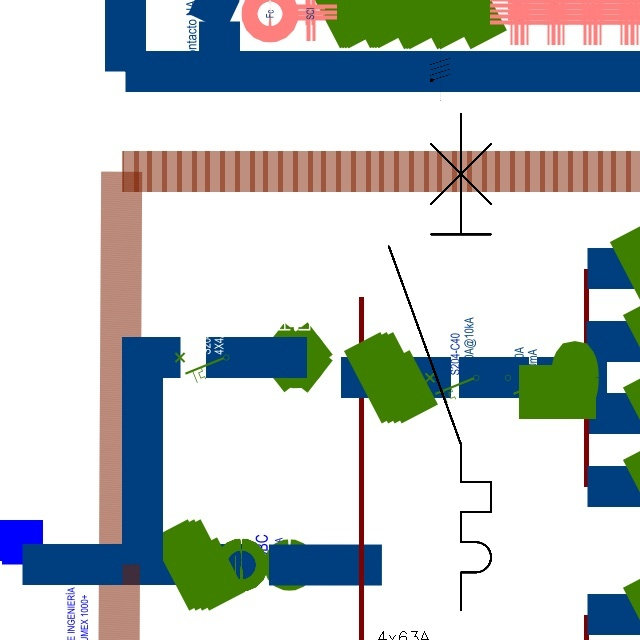interruptor_termomagnetico: (376, 101, 504, 623)
